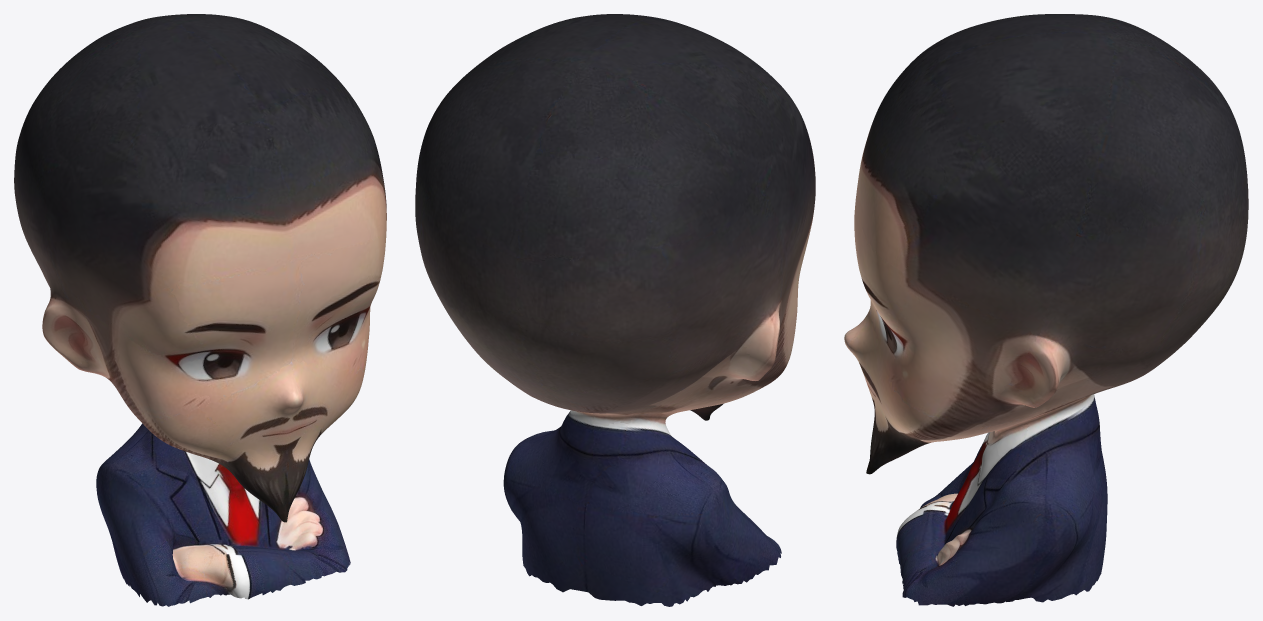
File: head.glb
The picture shows the model from 3 angles, left to right: view 1: azimuth 30°, elevation 25°; view 2: azimuth 150°, elevation 25°; view 3: azimuth 270°, elevation 25°; orthographic projection. The views are drawn at different scales.
Size of the model in its own units: 0.7405 by 1.16 by 0.8049.
Materials: 1 (1 with a texture image).
